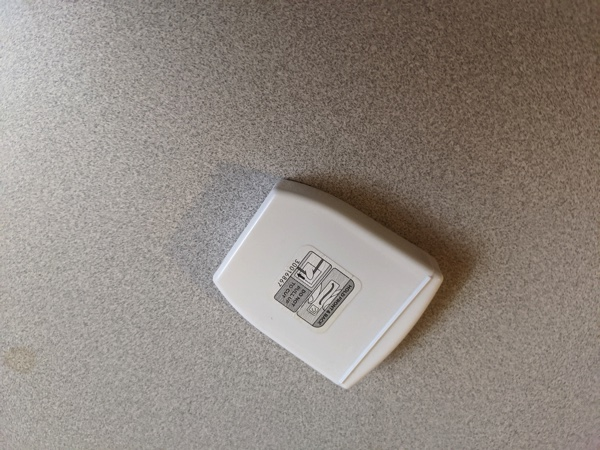plastic: (177, 163, 478, 414)
